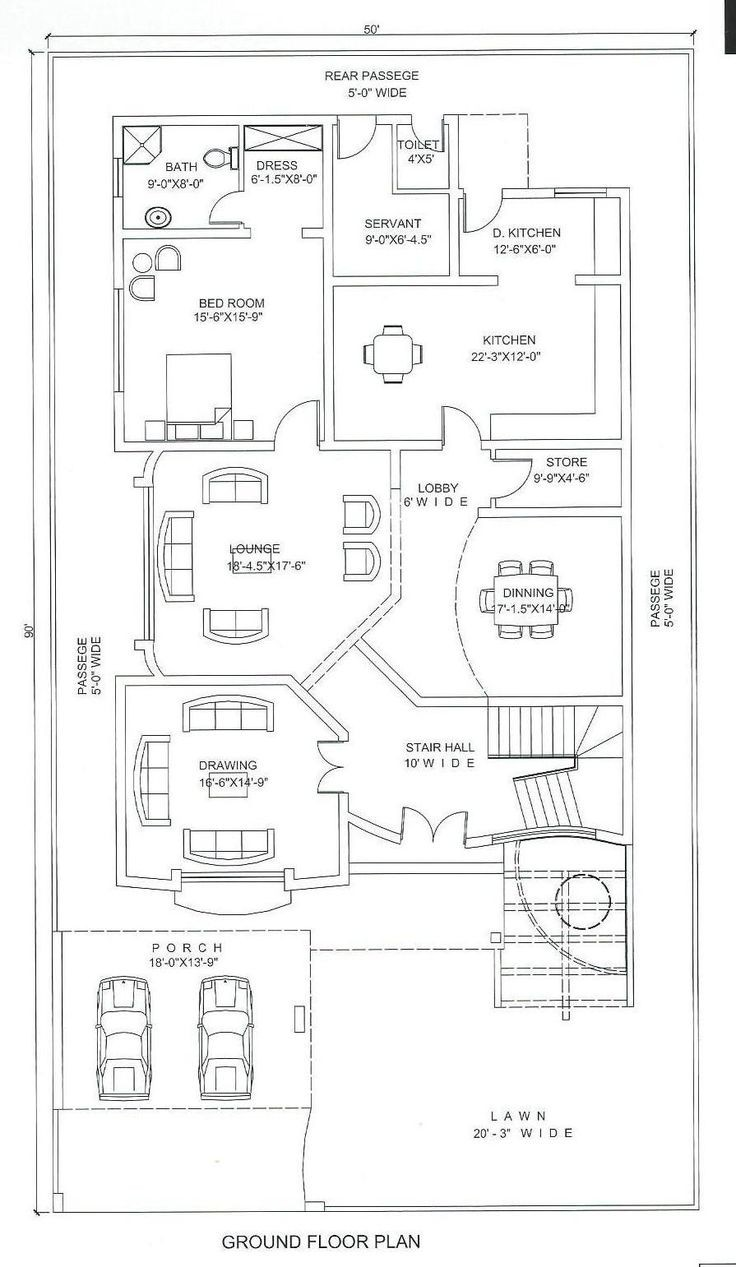room: (399, 453, 638, 709), (342, 675, 641, 879), (141, 459, 393, 690), (106, 660, 345, 894), (322, 274, 630, 448), (119, 229, 334, 456), (112, 229, 330, 452), (322, 120, 458, 271), (456, 187, 623, 285), (127, 120, 251, 235), (243, 112, 337, 233), (480, 444, 560, 509), (268, 390, 331, 462), (393, 797, 480, 849), (303, 722, 358, 799), (483, 451, 551, 510), (424, 395, 495, 451), (334, 122, 399, 178), (460, 180, 510, 245), (335, 114, 389, 171), (401, 106, 450, 167), (461, 194, 522, 240), (199, 178, 254, 222)
wall: (676, 36, 714, 1217), (42, 45, 72, 930), (606, 195, 646, 851), (42, 40, 711, 78), (317, 113, 348, 454), (101, 660, 143, 903), (307, 256, 504, 301), (416, 679, 647, 716), (335, 855, 507, 895), (354, 633, 431, 722), (112, 664, 297, 701), (114, 101, 339, 129), (474, 503, 643, 537), (103, 425, 274, 456), (99, 220, 254, 252), (480, 428, 642, 458), (320, 432, 445, 464), (326, 794, 362, 897), (434, 180, 466, 294), (327, 805, 400, 852), (100, 386, 139, 460), (106, 194, 133, 289), (603, 174, 639, 217), (230, 122, 251, 190), (104, 113, 130, 160), (501, 185, 560, 205)
window: (100, 283, 153, 391), (131, 485, 166, 644), (183, 864, 289, 893), (101, 153, 135, 195)
